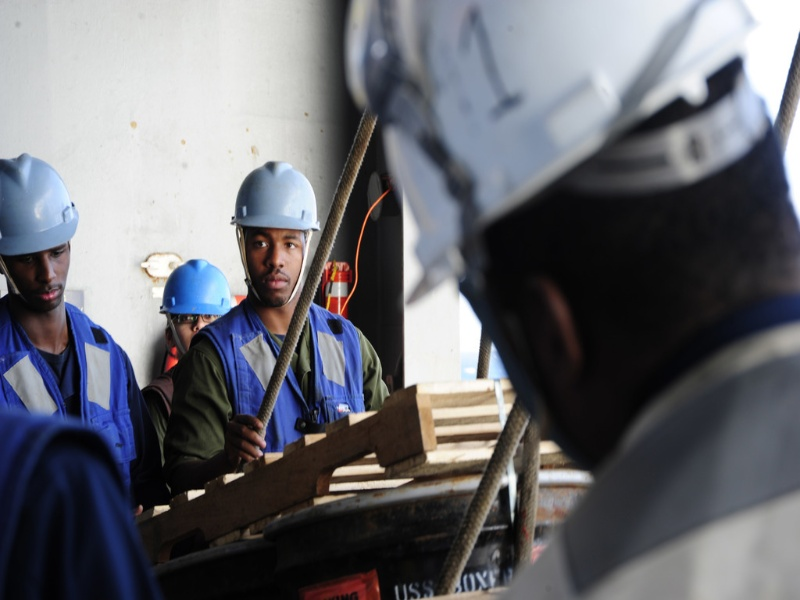helmet: (340, 1, 775, 252), (3, 154, 79, 255), (226, 159, 317, 232), (161, 261, 241, 317)
jacket: (4, 302, 138, 507), (226, 303, 375, 443)
